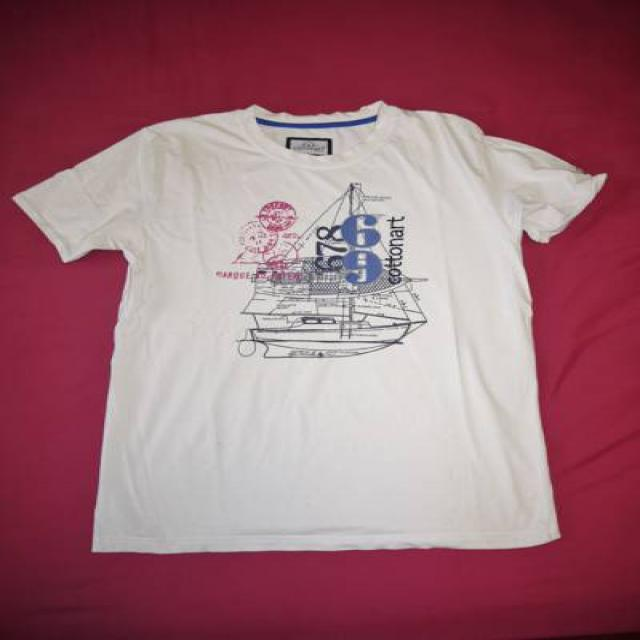Clothes -Biodegradable-: (19, 109, 602, 556)
